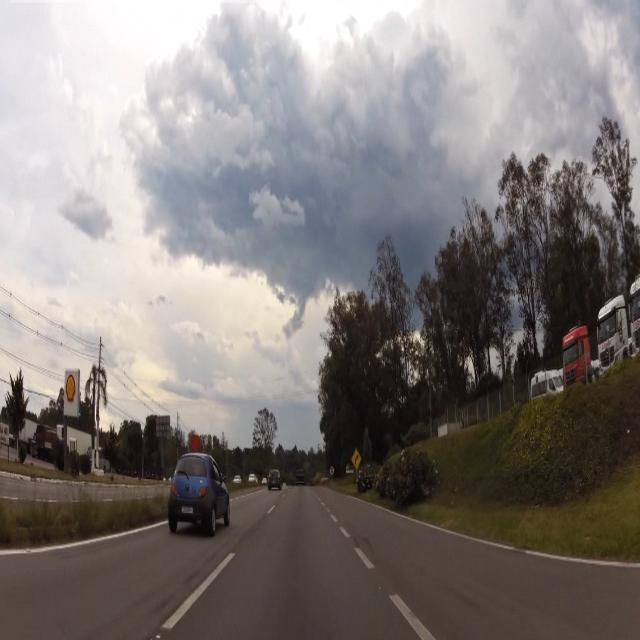A-2b: (352, 449, 361, 468)
